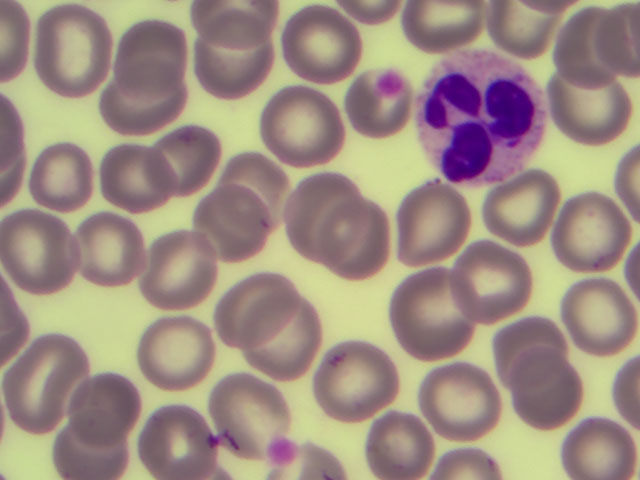Platelets: (376, 70, 404, 94), (270, 442, 296, 462)
RBC: (3, 337, 90, 430), (386, 273, 473, 360), (285, 172, 365, 262), (284, 2, 363, 86), (317, 341, 397, 423), (194, 184, 273, 266), (40, 8, 113, 96), (396, 181, 469, 269), (1, 208, 78, 287), (422, 363, 499, 442), (320, 194, 389, 282), (198, 18, 272, 100), (508, 349, 584, 428), (549, 70, 630, 144), (248, 293, 317, 379), (141, 403, 218, 480), (266, 87, 341, 164), (458, 245, 530, 325), (117, 19, 186, 102), (73, 215, 149, 288), (100, 140, 174, 214), (143, 234, 216, 309), (212, 280, 292, 348), (559, 6, 624, 89), (138, 320, 215, 389), (216, 151, 286, 226), (148, 126, 221, 196), (56, 413, 130, 480), (495, 316, 562, 390), (561, 282, 632, 351), (103, 65, 178, 130), (559, 198, 626, 270), (27, 142, 94, 213), (68, 372, 138, 439), (214, 376, 271, 458), (565, 418, 637, 480), (489, 181, 556, 243), (366, 416, 430, 480), (398, 1, 482, 45), (189, 1, 272, 42), (486, 1, 553, 47), (346, 97, 405, 140), (605, 5, 640, 75), (1, 278, 27, 370), (611, 143, 640, 218), (1, 2, 27, 85), (436, 447, 500, 480), (338, 1, 401, 21), (309, 448, 341, 480)
WBC: (425, 51, 534, 183)
